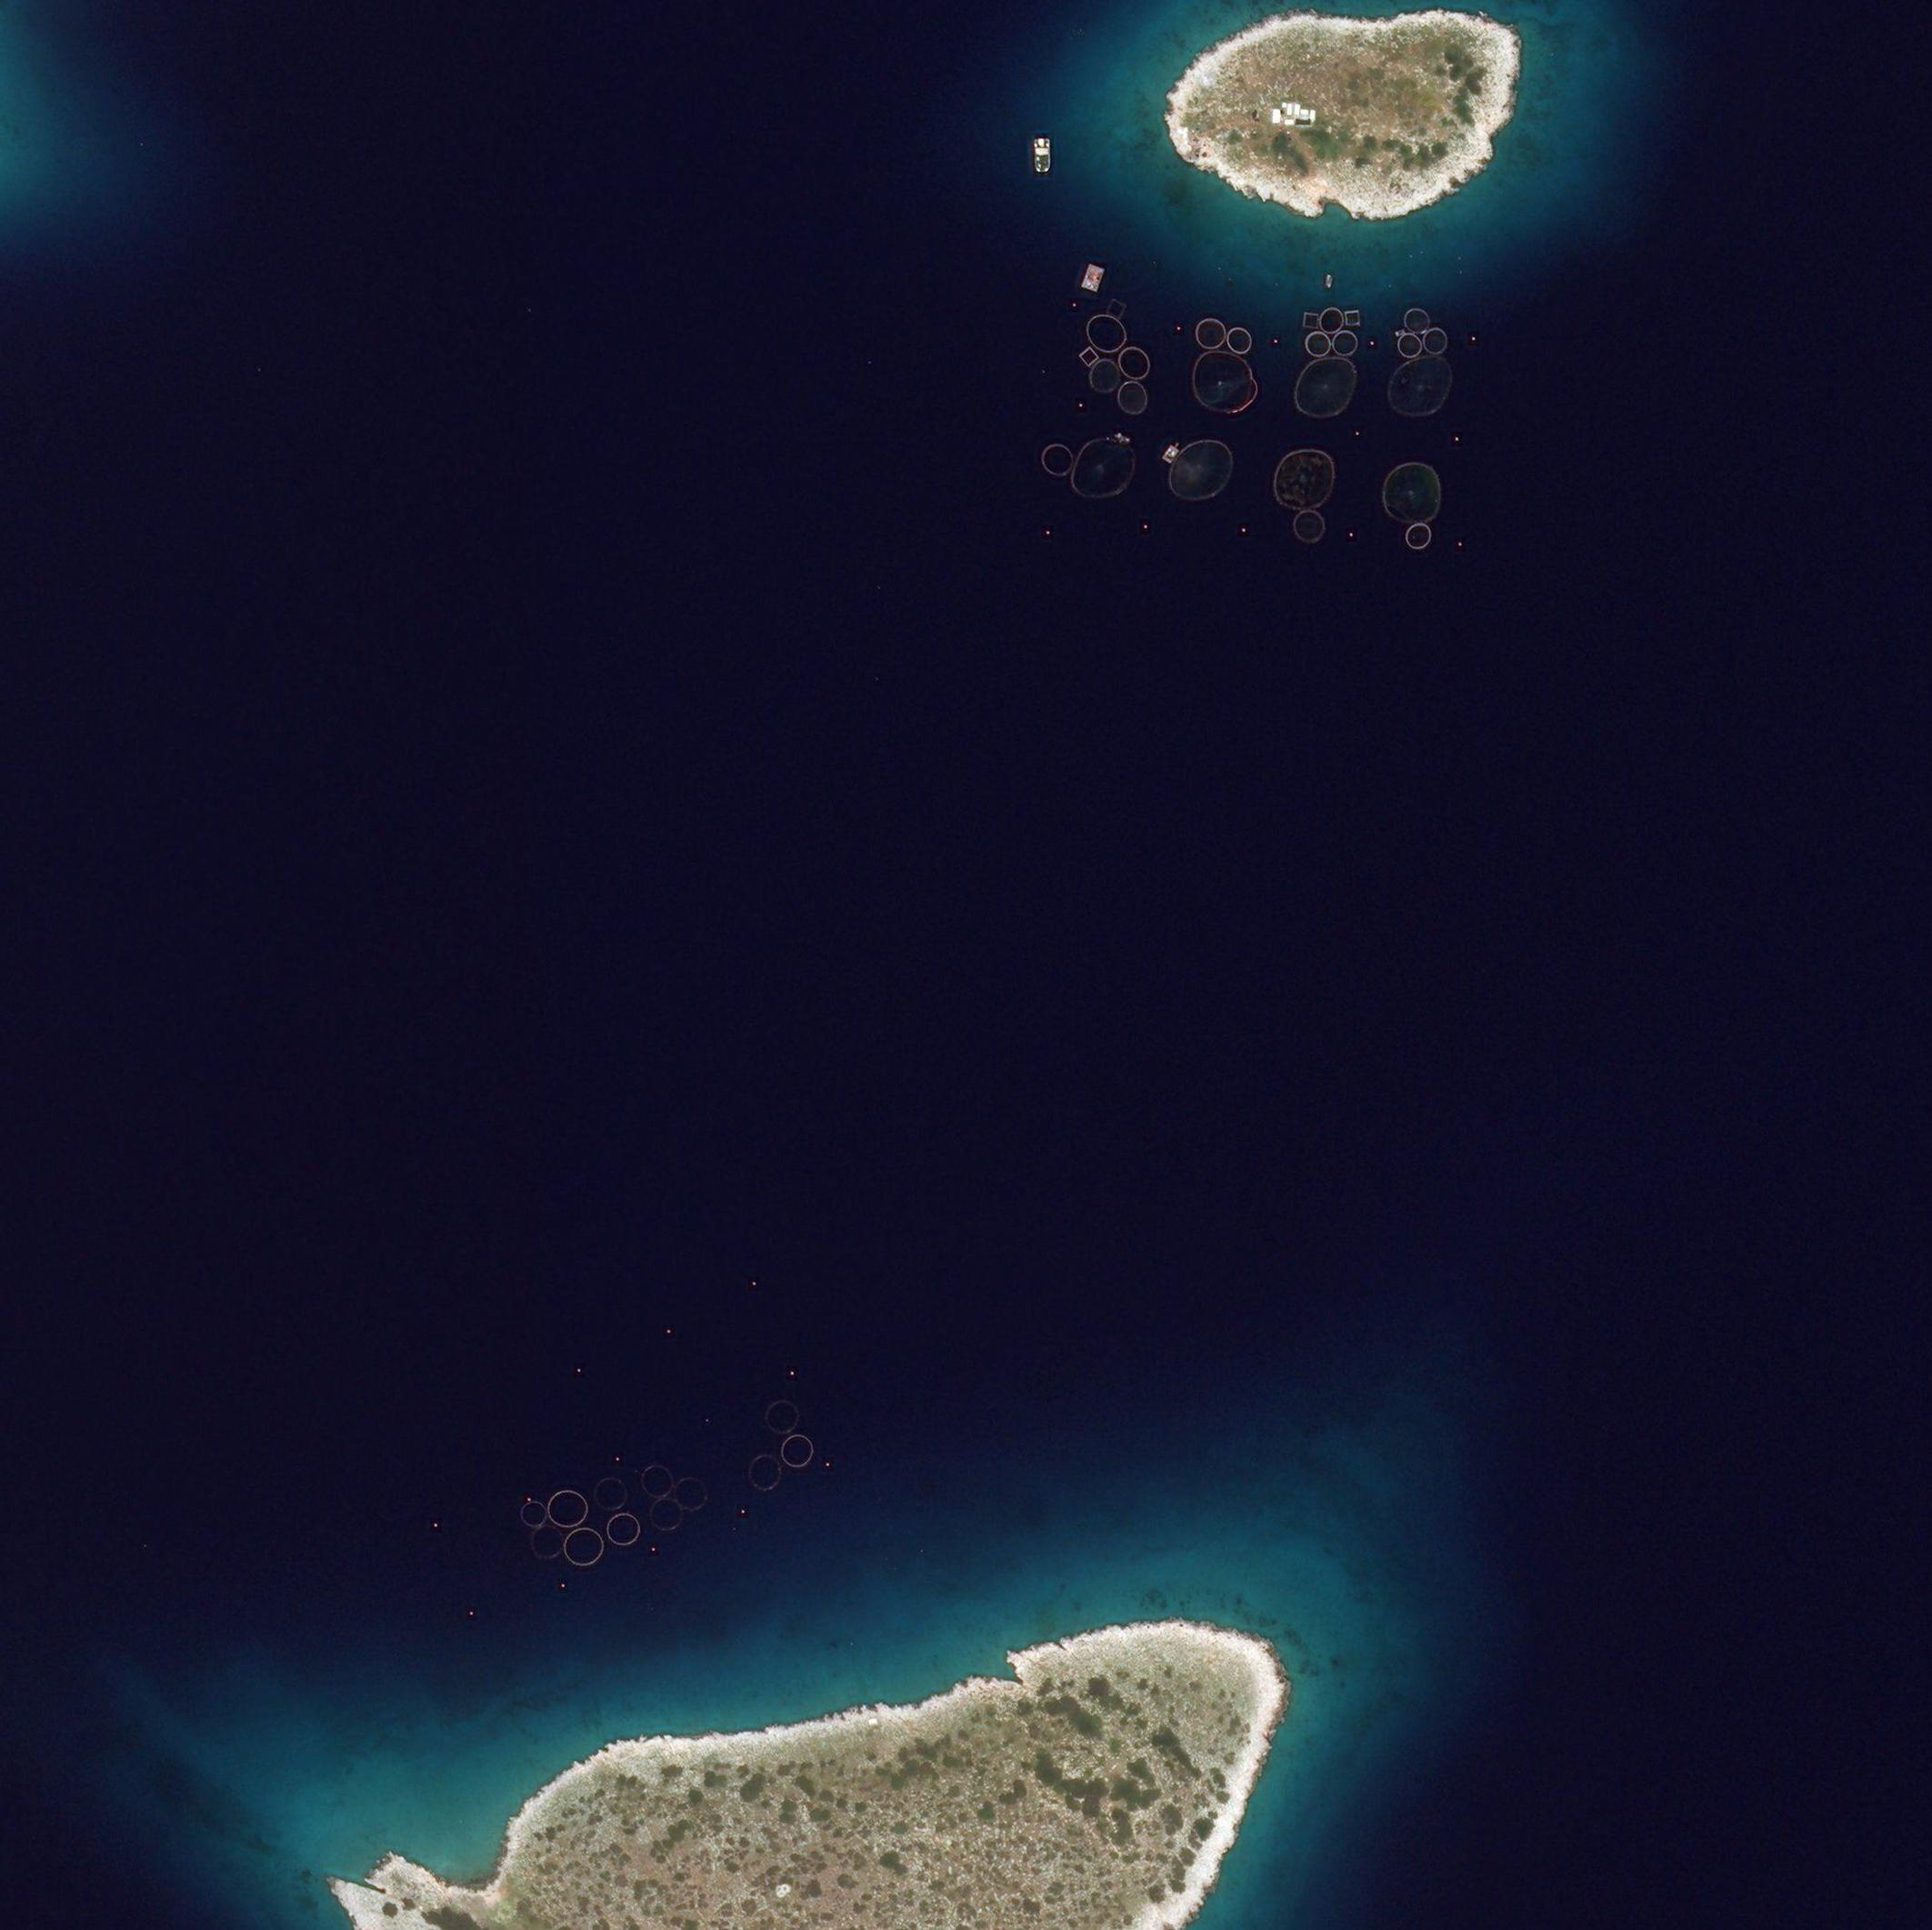c: (1190, 352, 1257, 415), (1292, 357, 1358, 419), (1167, 438, 1232, 500), (1071, 437, 1135, 498), (1386, 357, 1453, 415), (1274, 449, 1336, 511), (1381, 461, 1441, 525), (1085, 313, 1126, 353), (564, 1527, 603, 1566), (548, 1490, 589, 1527), (645, 1497, 684, 1531), (764, 1400, 799, 1435), (605, 1511, 642, 1545), (748, 1455, 781, 1492), (1039, 440, 1073, 477), (529, 1525, 564, 1559), (594, 1476, 628, 1511), (642, 1465, 675, 1501), (780, 1435, 815, 1469), (673, 1478, 709, 1509), (1290, 511, 1326, 543), (1119, 346, 1151, 382), (1117, 382, 1149, 415), (1195, 318, 1227, 350), (1089, 361, 1121, 392), (518, 1501, 550, 1529), (1403, 521, 1432, 550), (1403, 308, 1432, 334), (1304, 332, 1333, 359), (1227, 327, 1253, 355), (1333, 331, 1359, 357), (1423, 329, 1448, 355), (1319, 308, 1343, 334), (1398, 334, 1421, 357)
